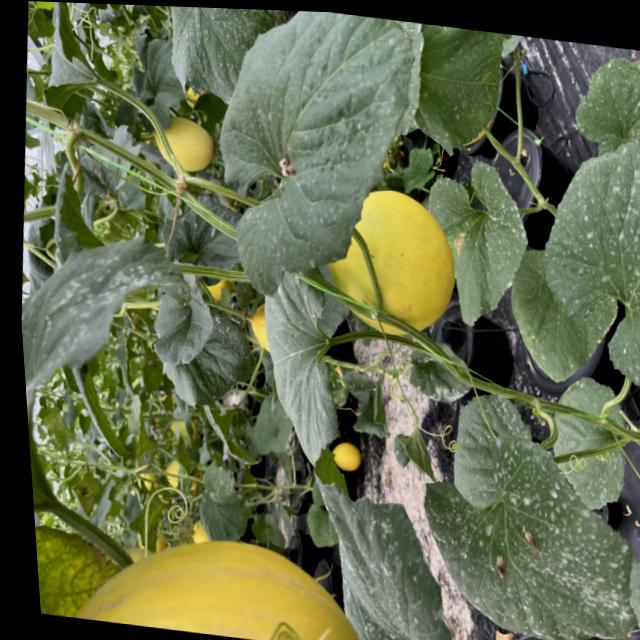alternaria leaf blight: (412, 157, 533, 330)
powdery mildew: (196, 7, 438, 310), (416, 407, 640, 640), (14, 211, 181, 441), (301, 475, 483, 640), (532, 142, 640, 384), (244, 261, 361, 470), (562, 45, 640, 182), (156, 301, 255, 408)
